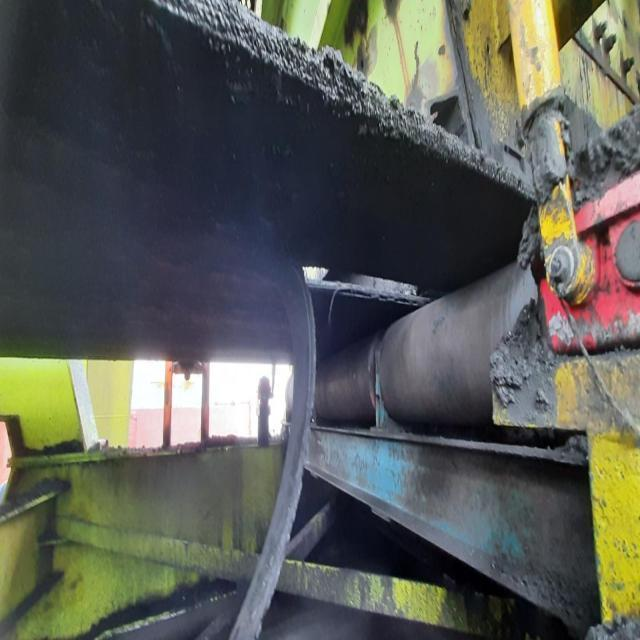Tear: (292, 252, 436, 306)
